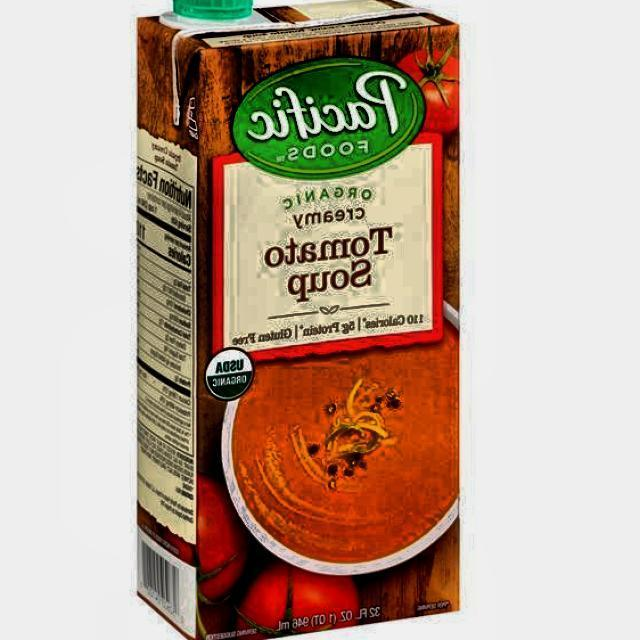cardboard: (136, 0, 463, 640)
